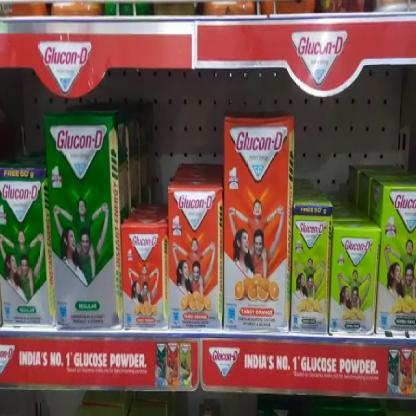Glucon D Nimbu Pani 1-KG: (332, 226, 377, 340)
Glucon D Regular 1-KG: (53, 118, 121, 331), (1, 167, 50, 328)
Glucon D Tangy orange 1-KG: (225, 116, 289, 328), (170, 189, 224, 336)
